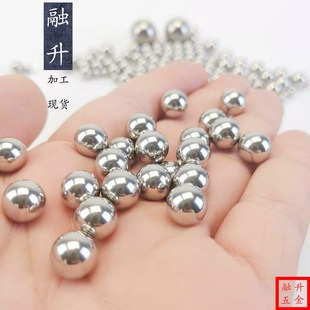ironball: (49, 229, 97, 279), (1, 178, 45, 222), (74, 196, 117, 239), (165, 182, 207, 225), (100, 169, 140, 209), (60, 169, 99, 208), (136, 163, 171, 200), (73, 123, 108, 157), (134, 130, 168, 163), (172, 162, 209, 192), (237, 131, 271, 163), (208, 116, 240, 149), (94, 147, 129, 176), (175, 137, 210, 165), (0, 137, 27, 172), (159, 89, 187, 118), (126, 112, 155, 139), (107, 136, 134, 163), (219, 89, 245, 116), (165, 17, 191, 42), (198, 107, 226, 130), (131, 19, 155, 45), (179, 126, 209, 145), (160, 159, 179, 178)
